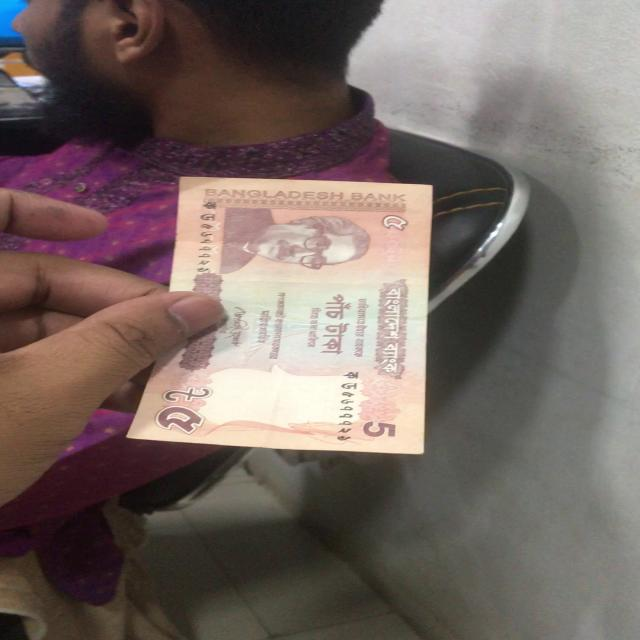Taka: (166, 181, 433, 453)
